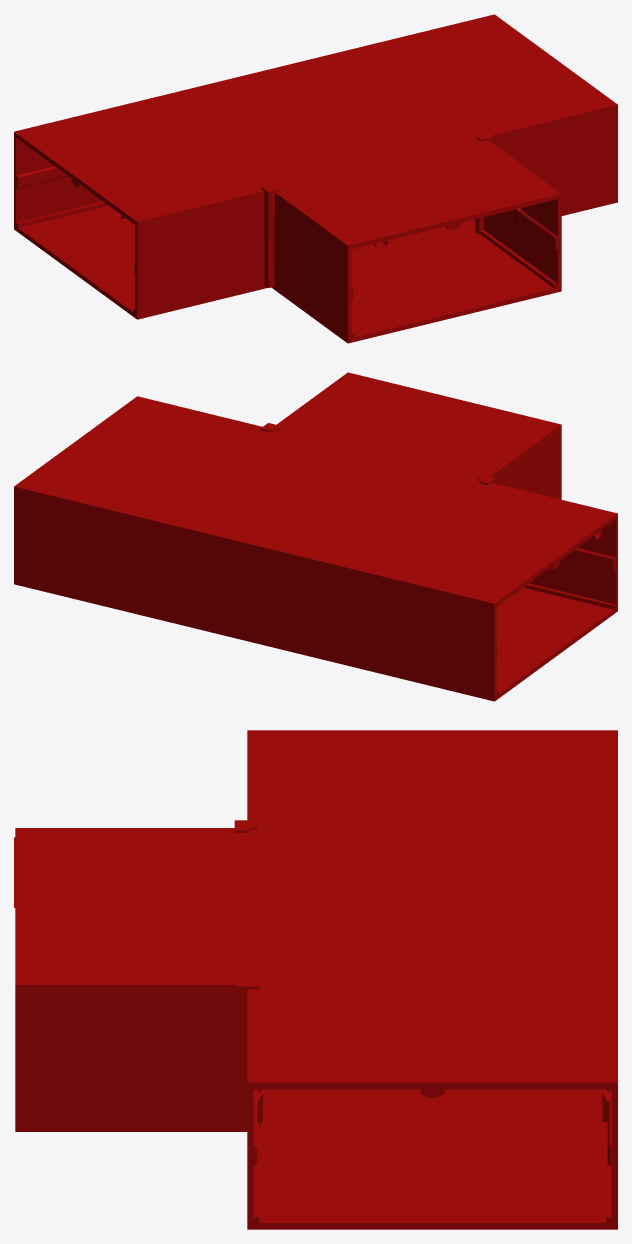
Rendered from PasilloT.fbx.
The picture shows the model from 3 angles, top to bottom: view 1: azimuth 30°, elevation 25°; view 2: azimuth 150°, elevation 25°; view 3: azimuth 270°, elevation 25°; orthographic projection. The views are drawn at different scales.
Parts seen in each view (by area): view 1: PasilloT1; view 2: PasilloT1; view 3: PasilloT1.
Boxes of the visible parts, left/top/right/bottom form: PasilloT1: left=14, top=14, right=617, bottom=343; PasilloT1: left=14, top=372, right=617, bottom=701; PasilloT1: left=14, top=730, right=617, bottom=1229.
Size of the model in its own units: 3600 by 714 by 2606.
